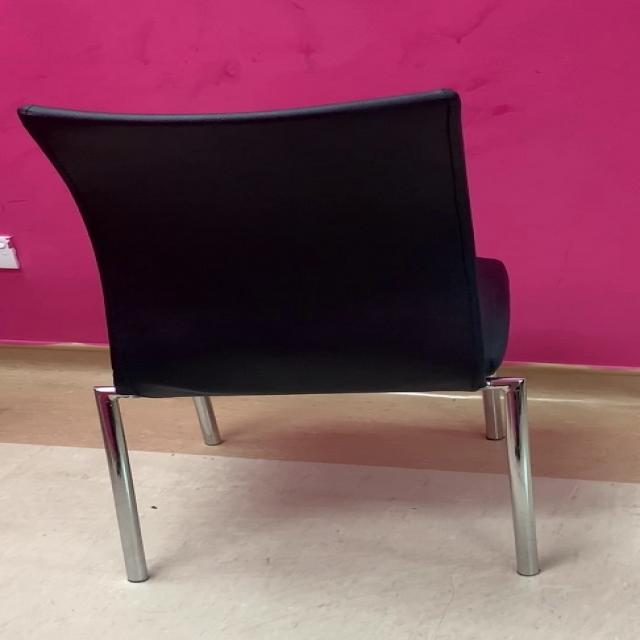Chair: (15, 86, 578, 586)
